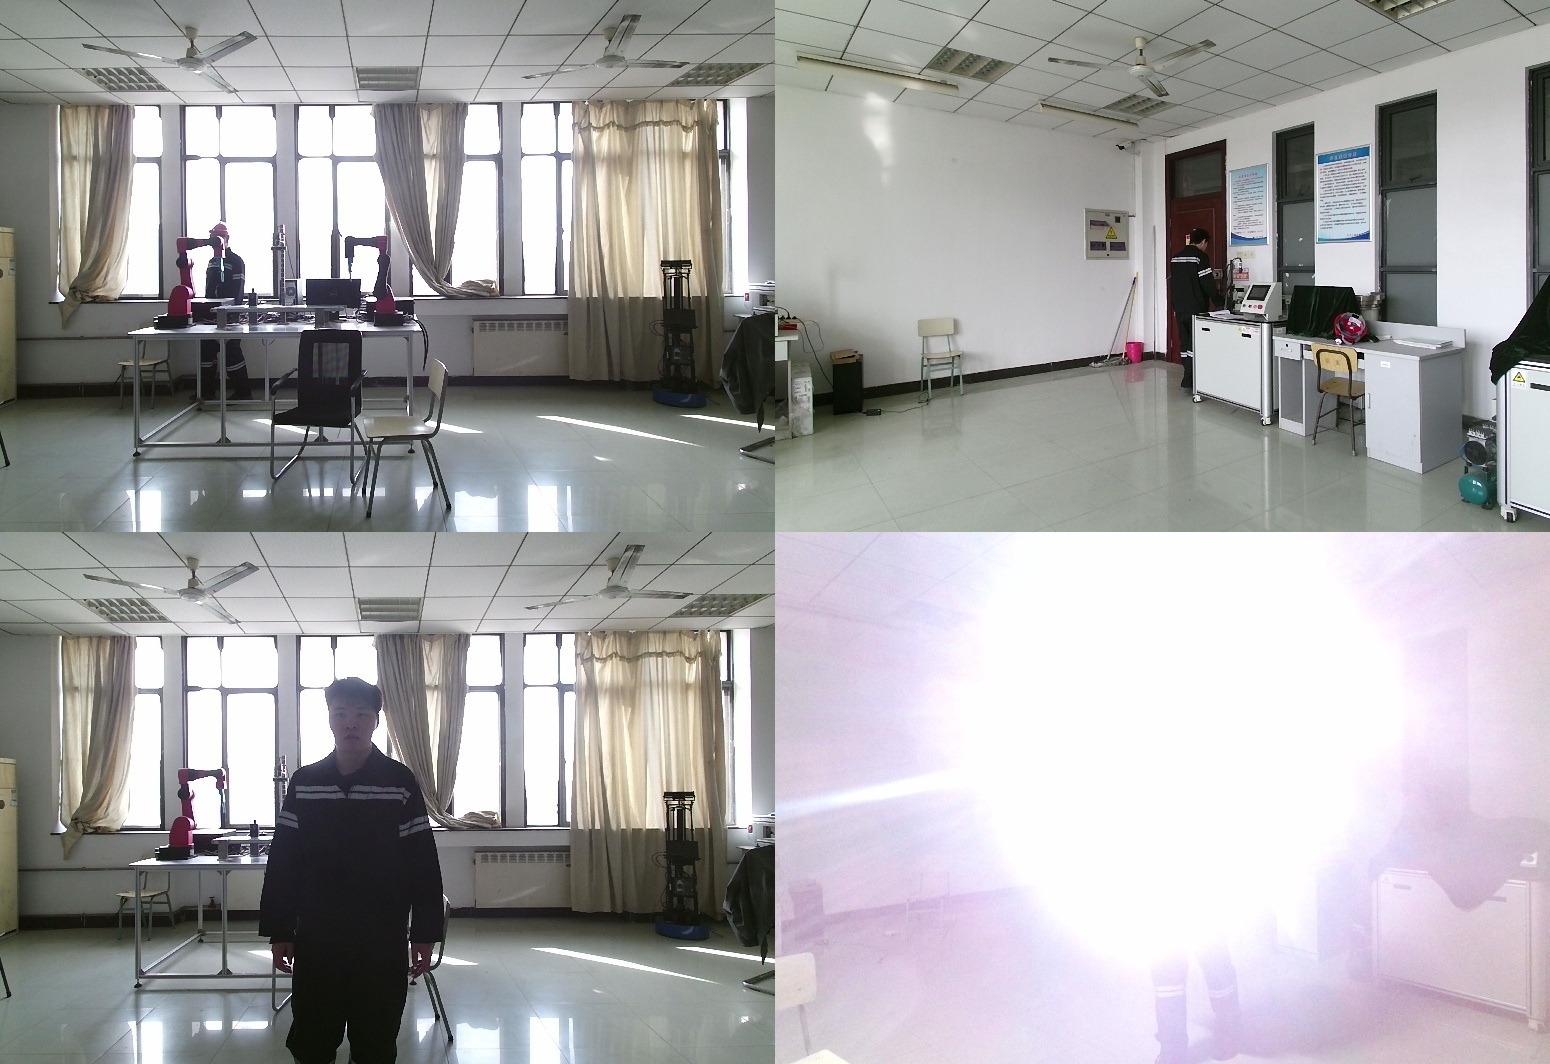person: (268, 678, 458, 1064), (1137, 712, 1257, 1064), (190, 224, 255, 403), (1170, 232, 1228, 401)
